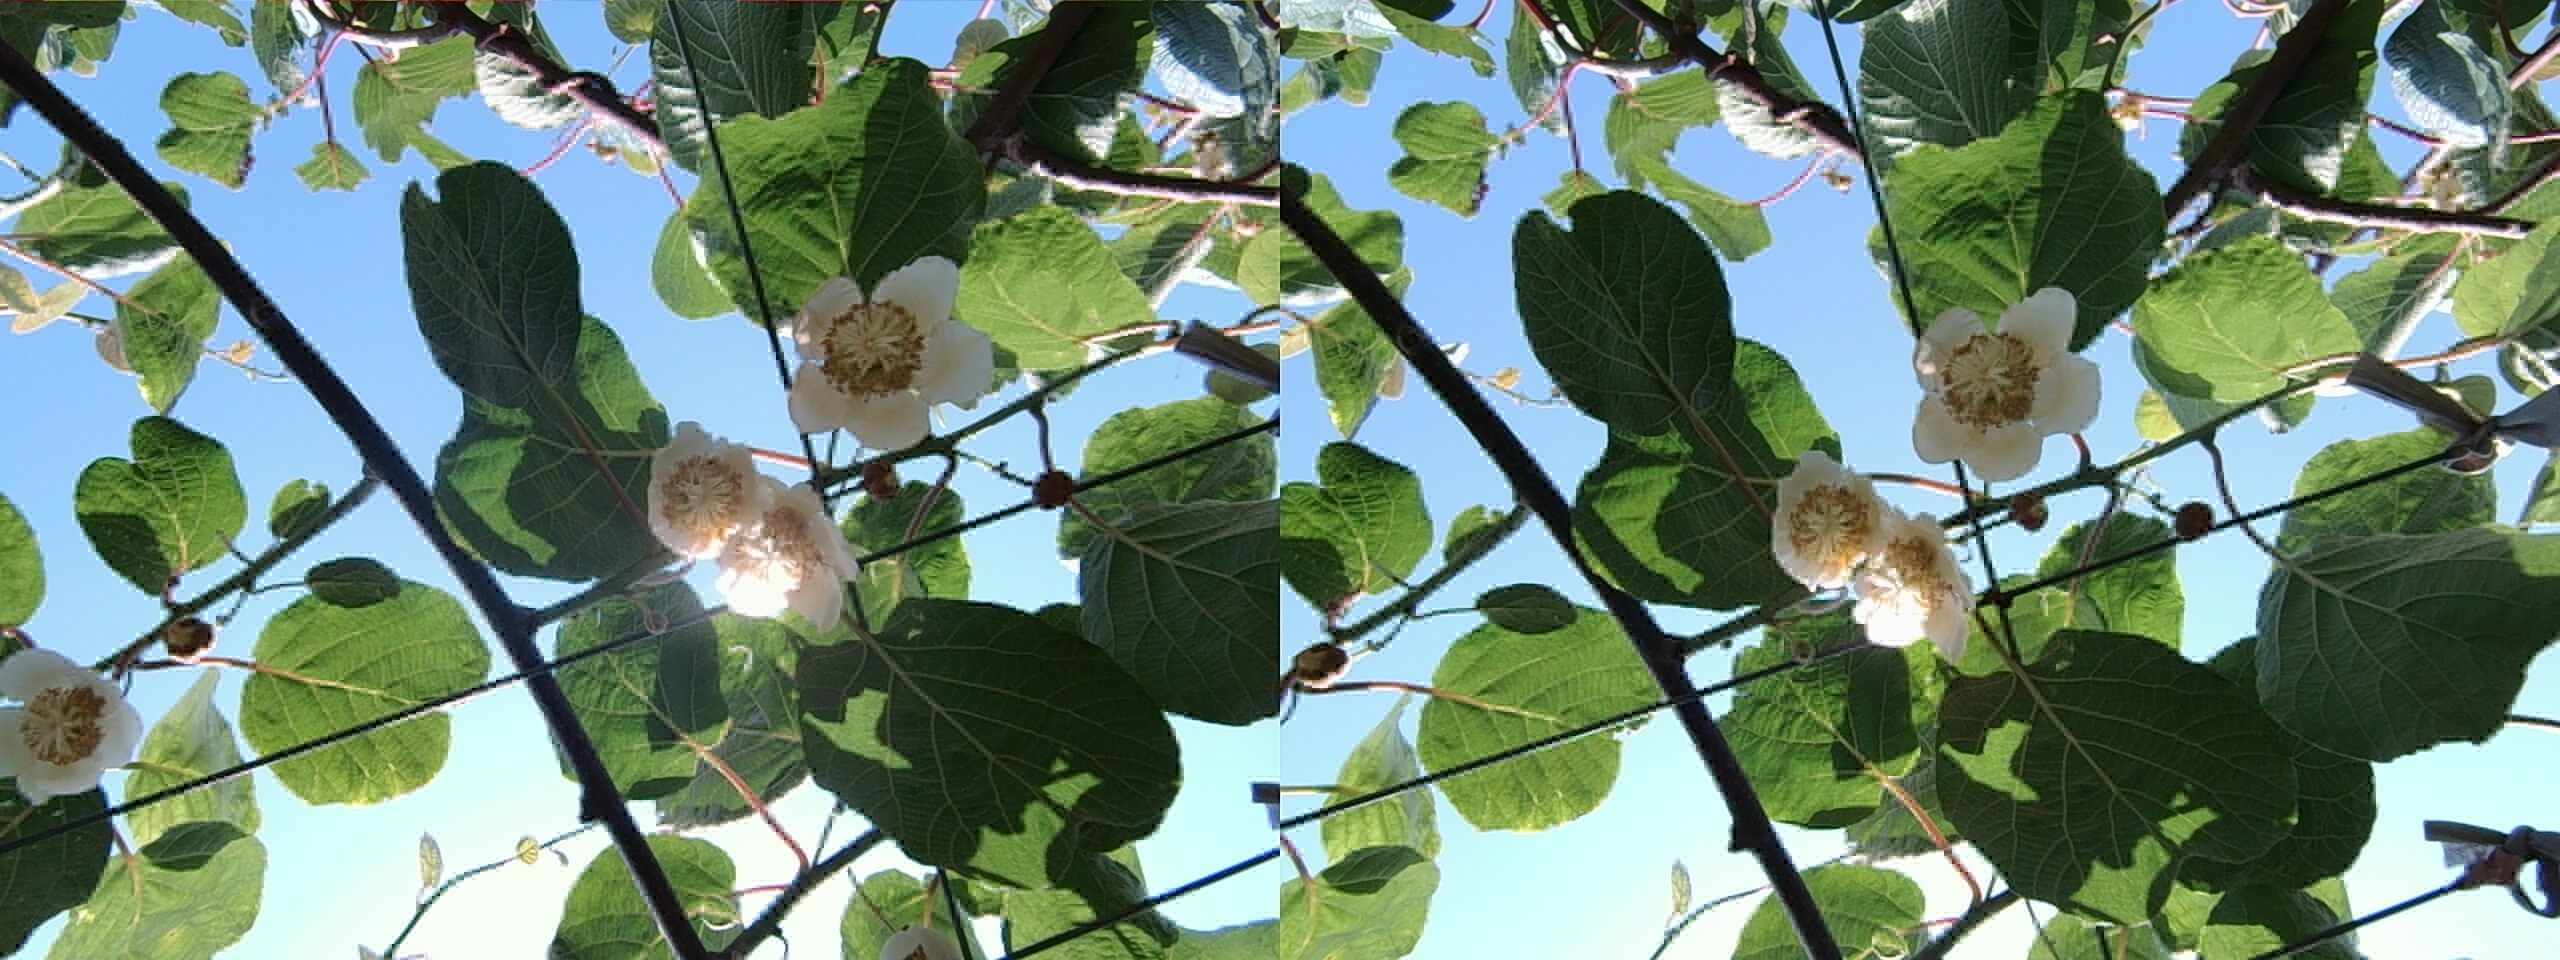flower: (1775, 449, 1972, 651), (1900, 279, 2096, 477), (651, 428, 852, 619), (779, 251, 980, 439), (2, 643, 139, 798)
